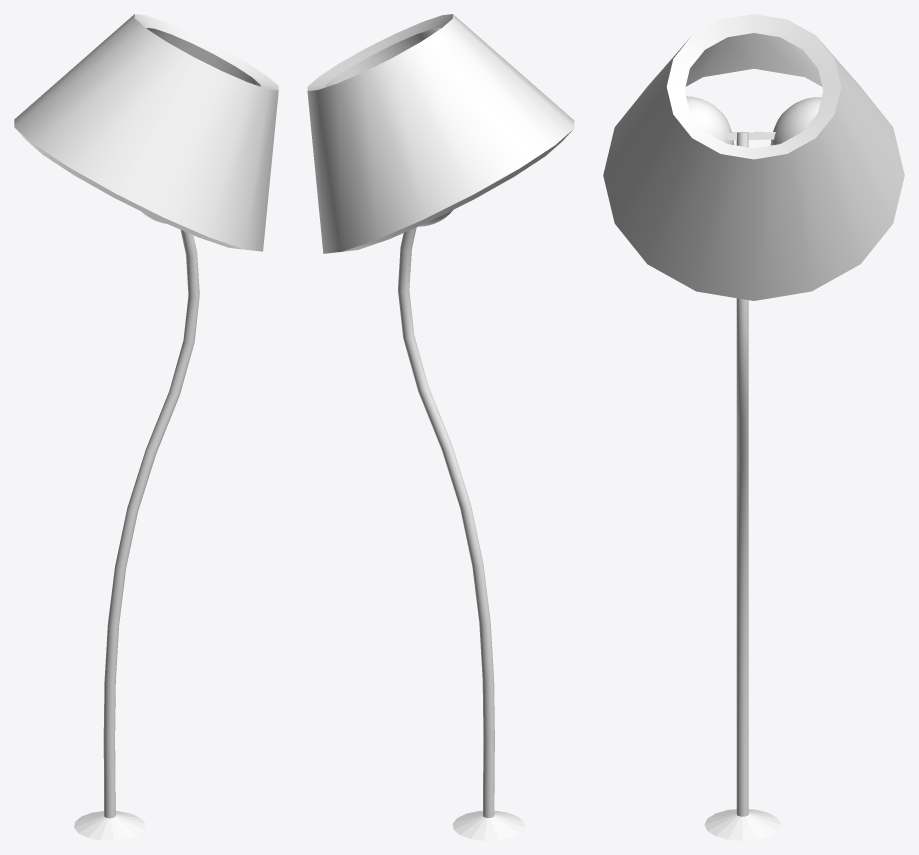
The model's file is lampara.obj.
3 views of the same model, side by side, from view 1: azimuth 30°, elevation 25°; view 2: azimuth 150°, elevation 25°; view 3: azimuth 270°, elevation 25° (orthographic). The views are drawn at different scales.
Parts seen in each view (by area): view 1: pSphere2; view 2: pSphere2; view 3: pSphere2.
Part boxes in pixels (x1,y1,x2,y2): pSphere2: [14, 14, 278, 840]; pSphere2: [307, 14, 574, 840]; pSphere2: [603, 14, 904, 840].
Bounding box in the file's own units: 0.1035 × 0.3314 × 0.1088.
3 materials, 3 textured.
